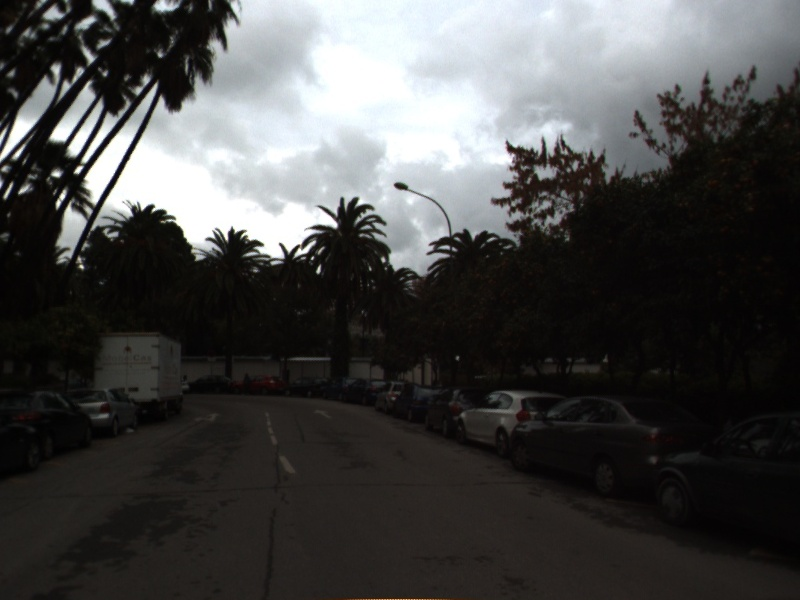STRAIGHT: (311, 407, 335, 421)
STRAIGHT_LEFT: (192, 410, 223, 424)
